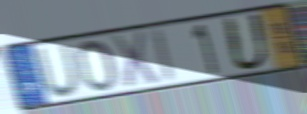1: (192, 22, 221, 76)
I: (149, 26, 177, 85)
O: (75, 38, 119, 94)
U: (221, 11, 272, 73), (33, 42, 84, 99)
X: (108, 30, 161, 92)
